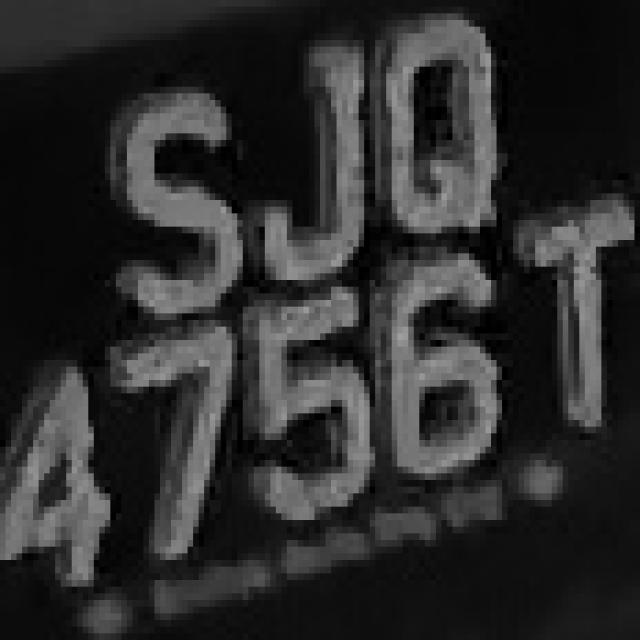4: (11, 327, 116, 613)
5: (237, 293, 381, 520)
6: (381, 240, 513, 500)
7: (116, 320, 243, 553)
J: (265, 33, 381, 280)
Q: (375, 7, 524, 240)
S: (100, 80, 260, 307)
T: (513, 207, 640, 433)
